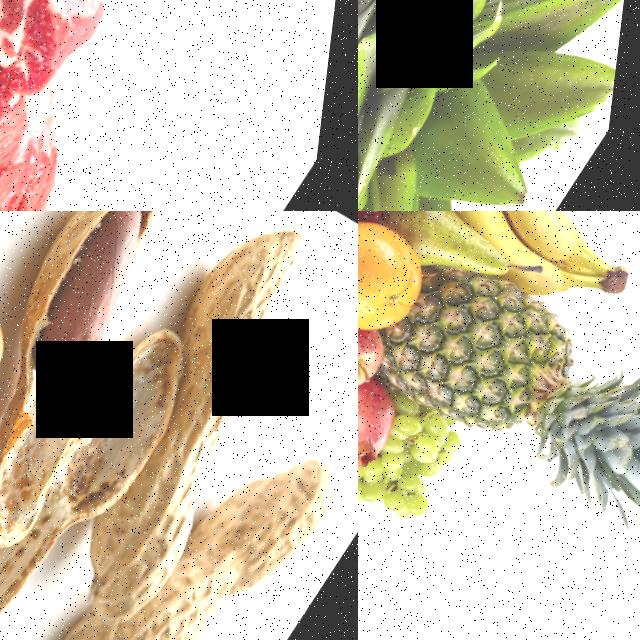apple: (358, 322, 400, 399)
banana: (461, 211, 640, 303)
orange: (358, 211, 452, 348)
peanuts: (108, 412, 358, 640), (71, 392, 269, 634), (165, 211, 347, 395), (10, 211, 189, 398), (0, 262, 37, 420)
pineapple: (366, 245, 640, 487), (358, 0, 603, 211)
pork belly: (0, 0, 280, 211)
